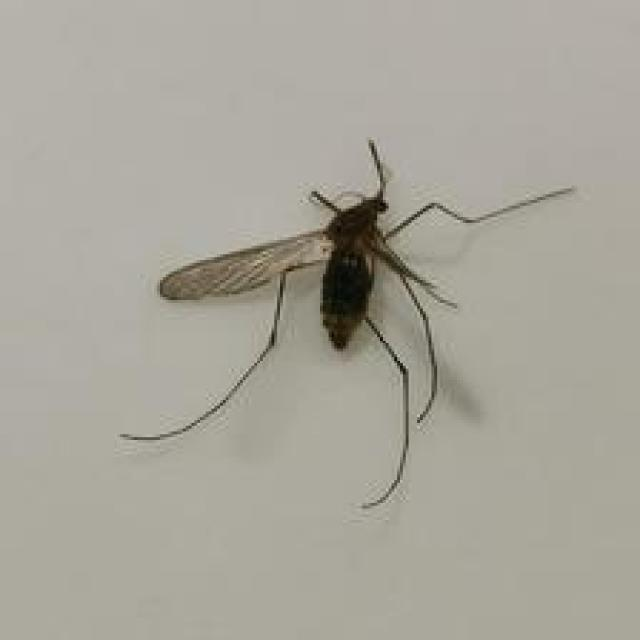Culex: (117, 136, 574, 510)
